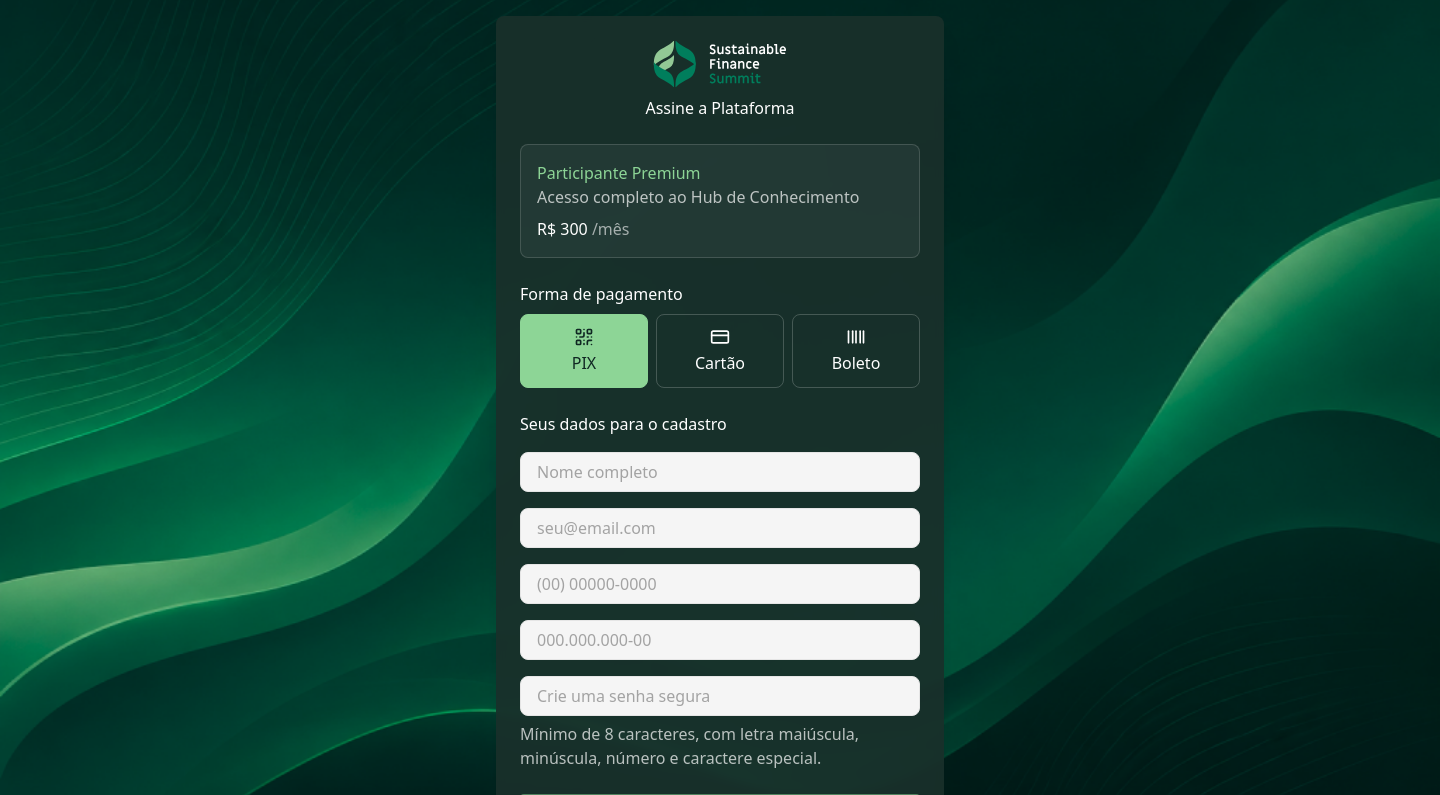
AssinaturaPage › exibe erro generico ao falhar a requisicao de iniciar
This screenshot has width=1440, height=795.
In the field with placeholder "Nome completo": (720,472) [520,452,920,492], type "João da Silva"
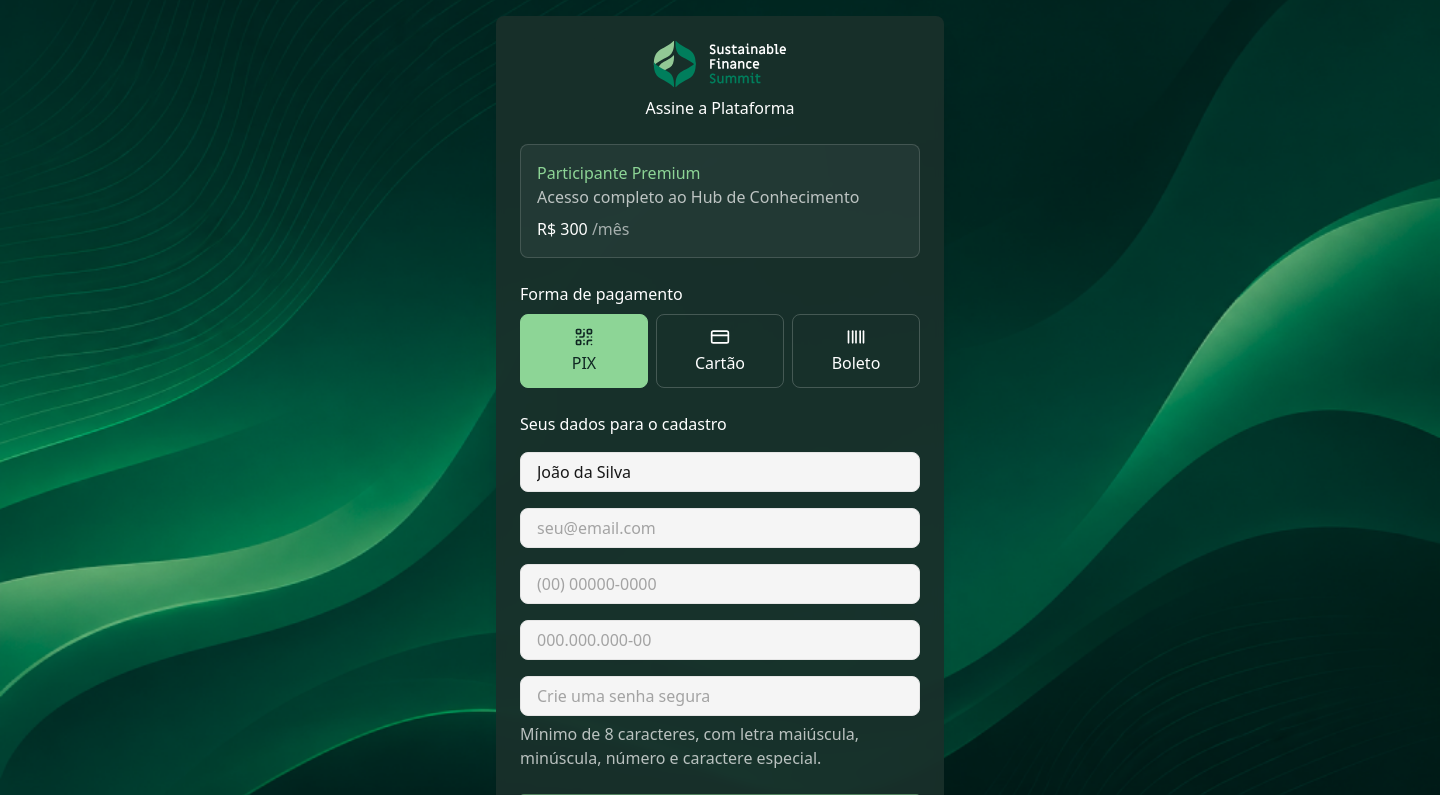
In the field with placeholder "seu@email.com": (720,528) [520,508,920,548], type "joao@example.com"
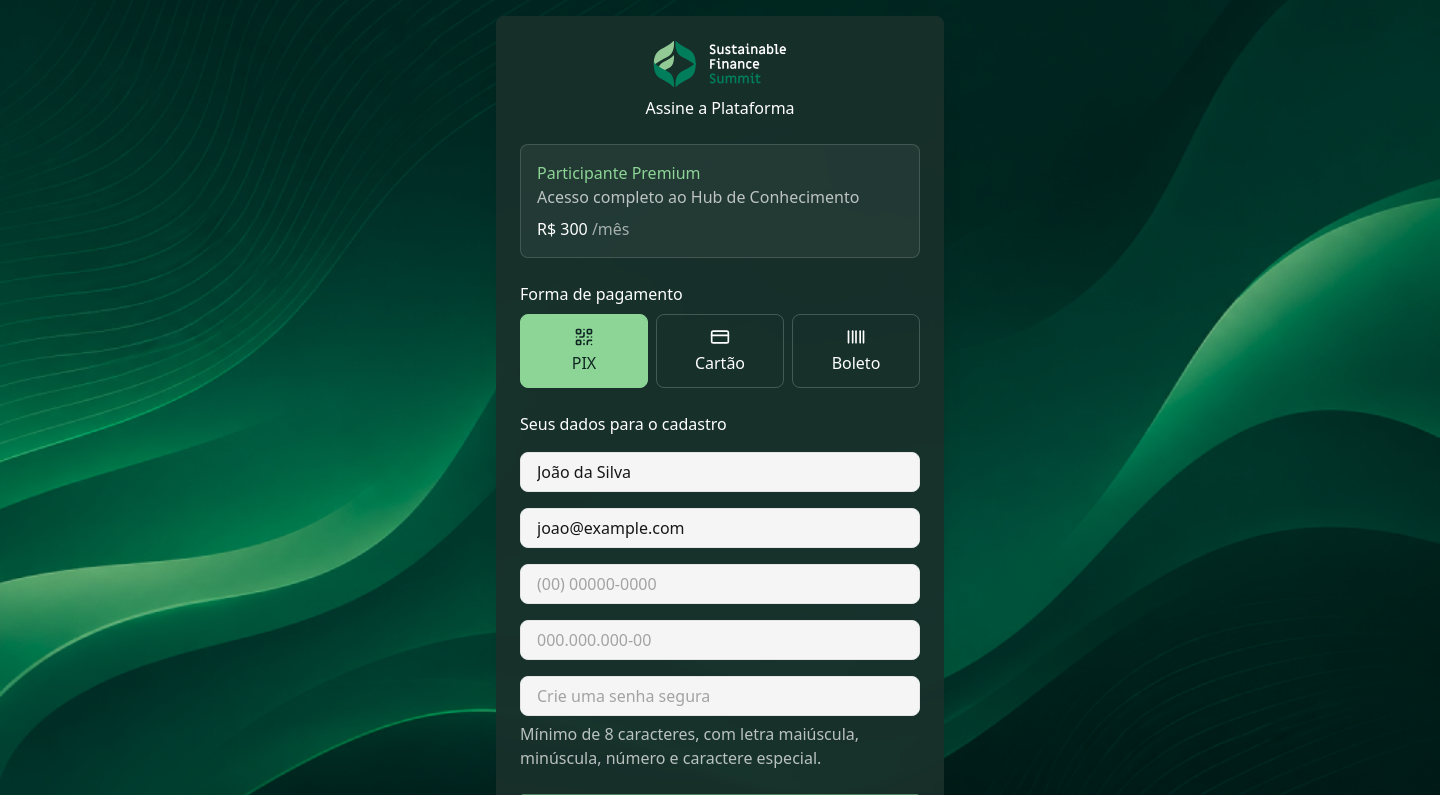
In the field with placeholder "(00) 00000-0000": (720,584) [520,564,920,604], type "11999999999"
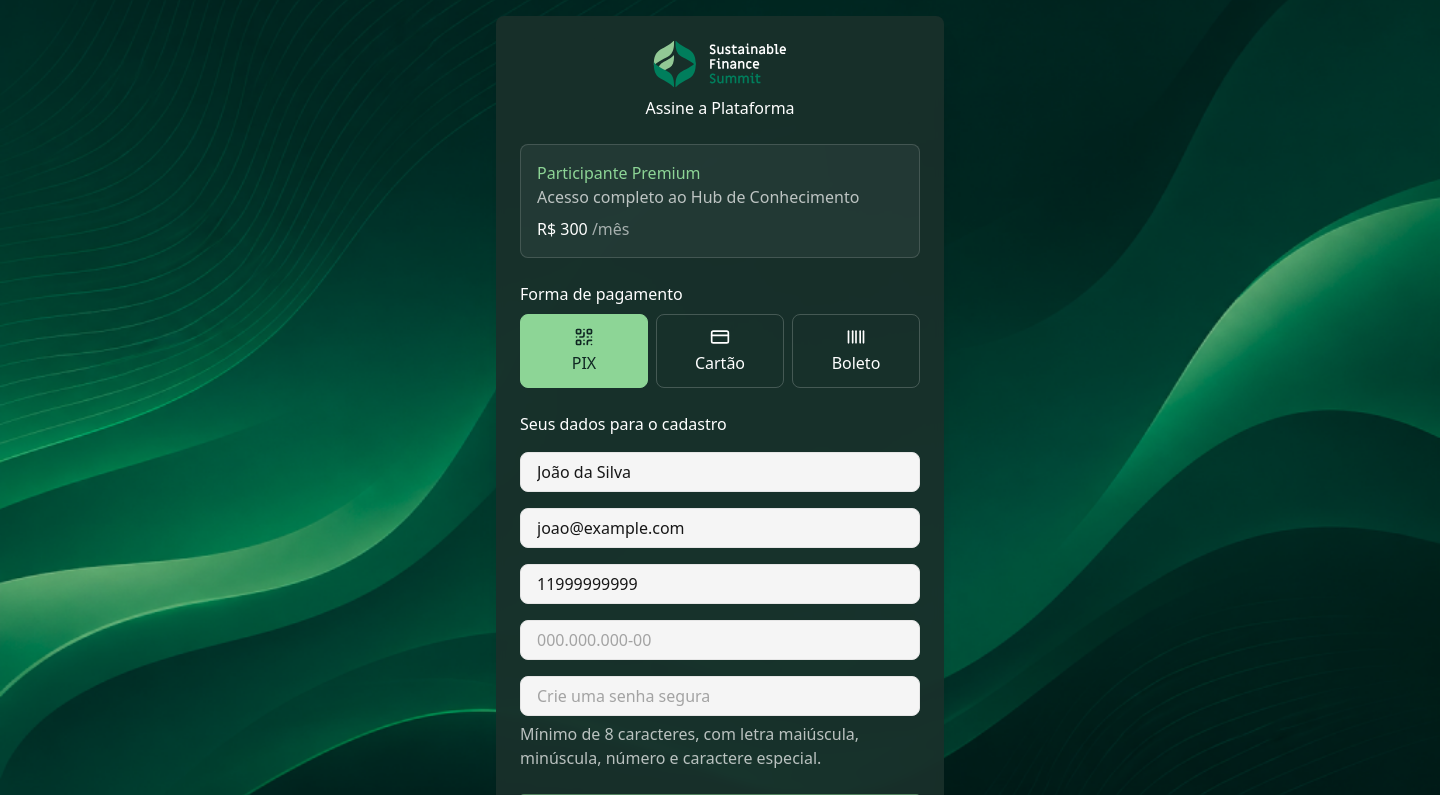
In the field with placeholder "000.000.000-00": (720,640) [520,620,920,660], type "12345678909"
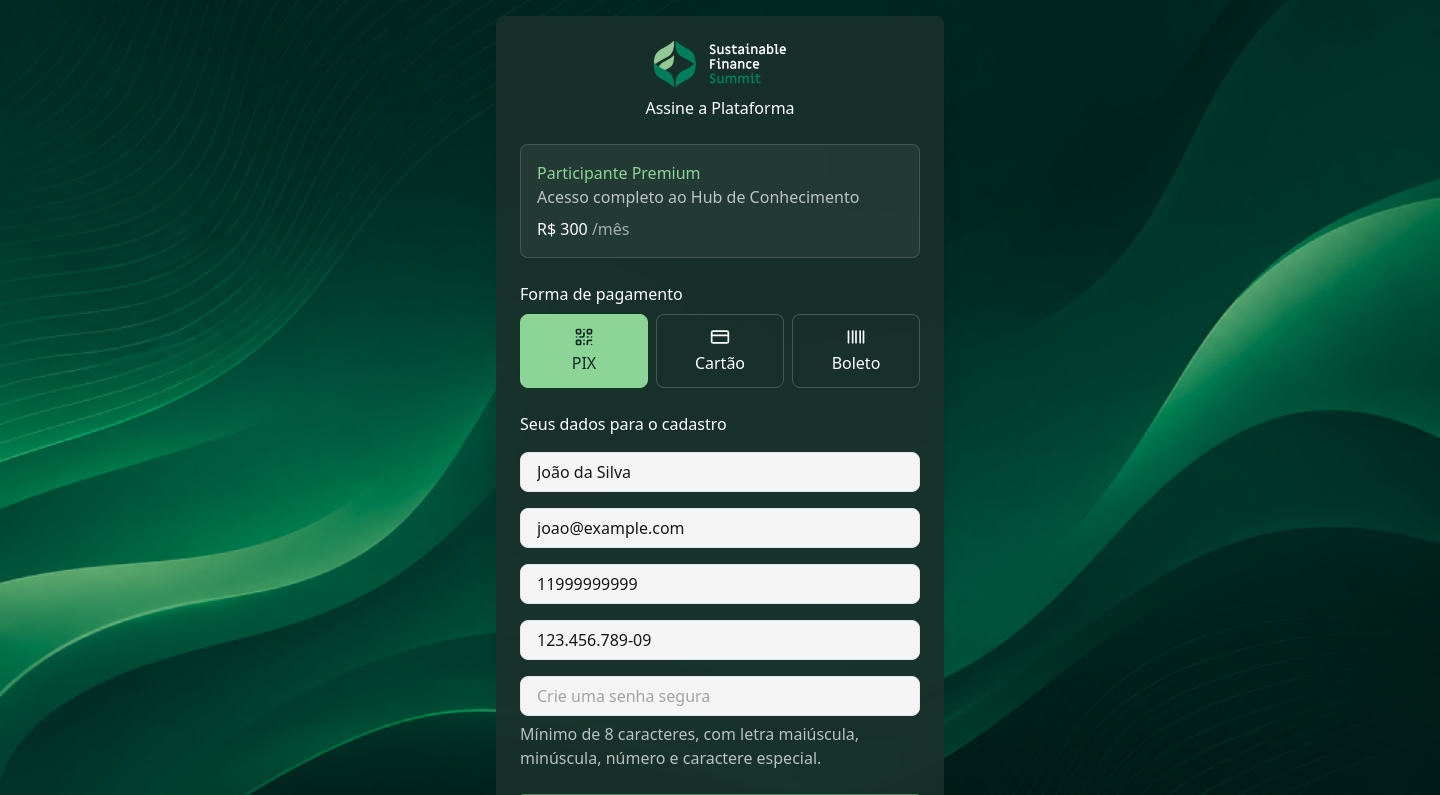
In the password field with placeholder "Crie uma senha segura": (720,696) [520,676,920,716], type "Senha@123"
(page scrolled)
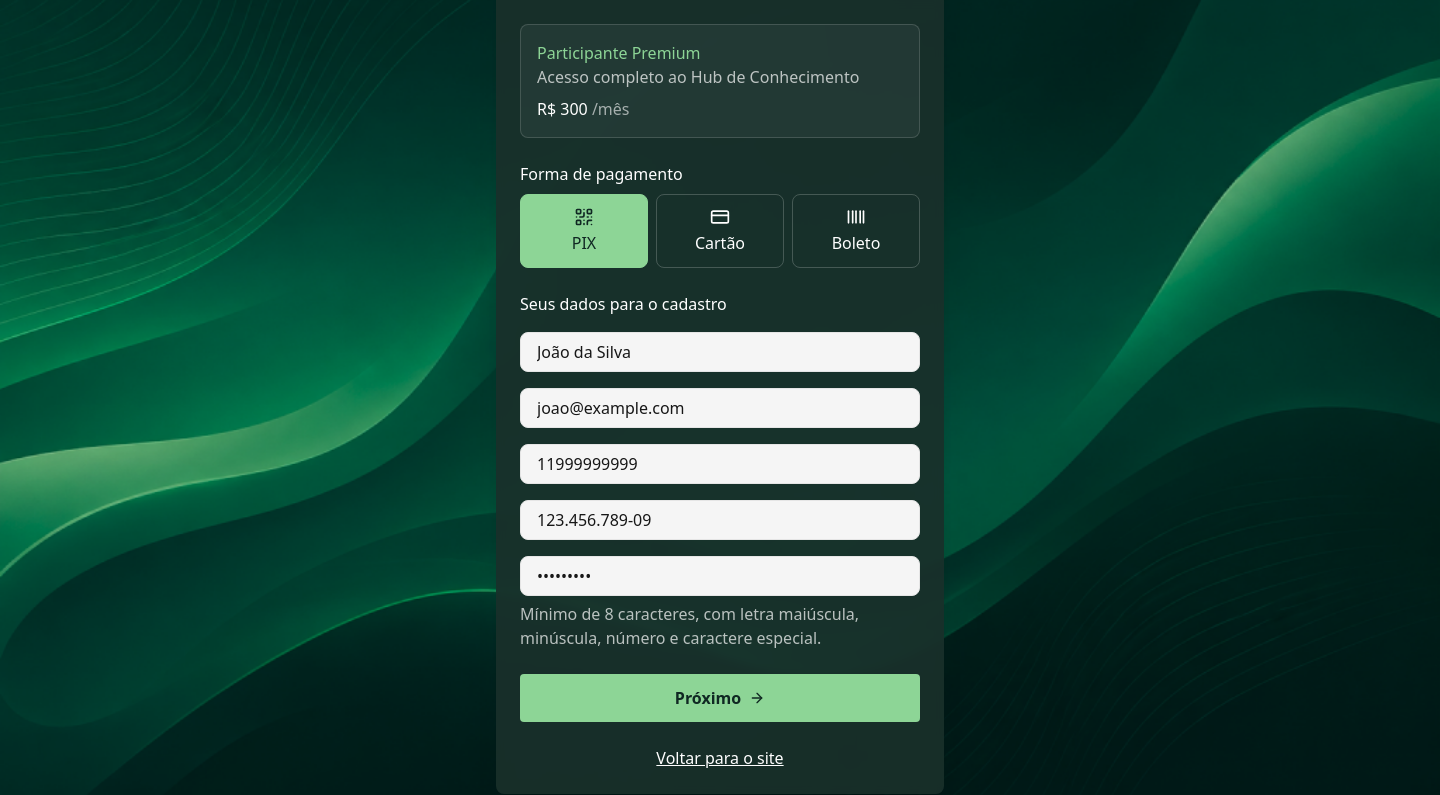
Click the button "Próximo": (720,698) [520,674,920,722]
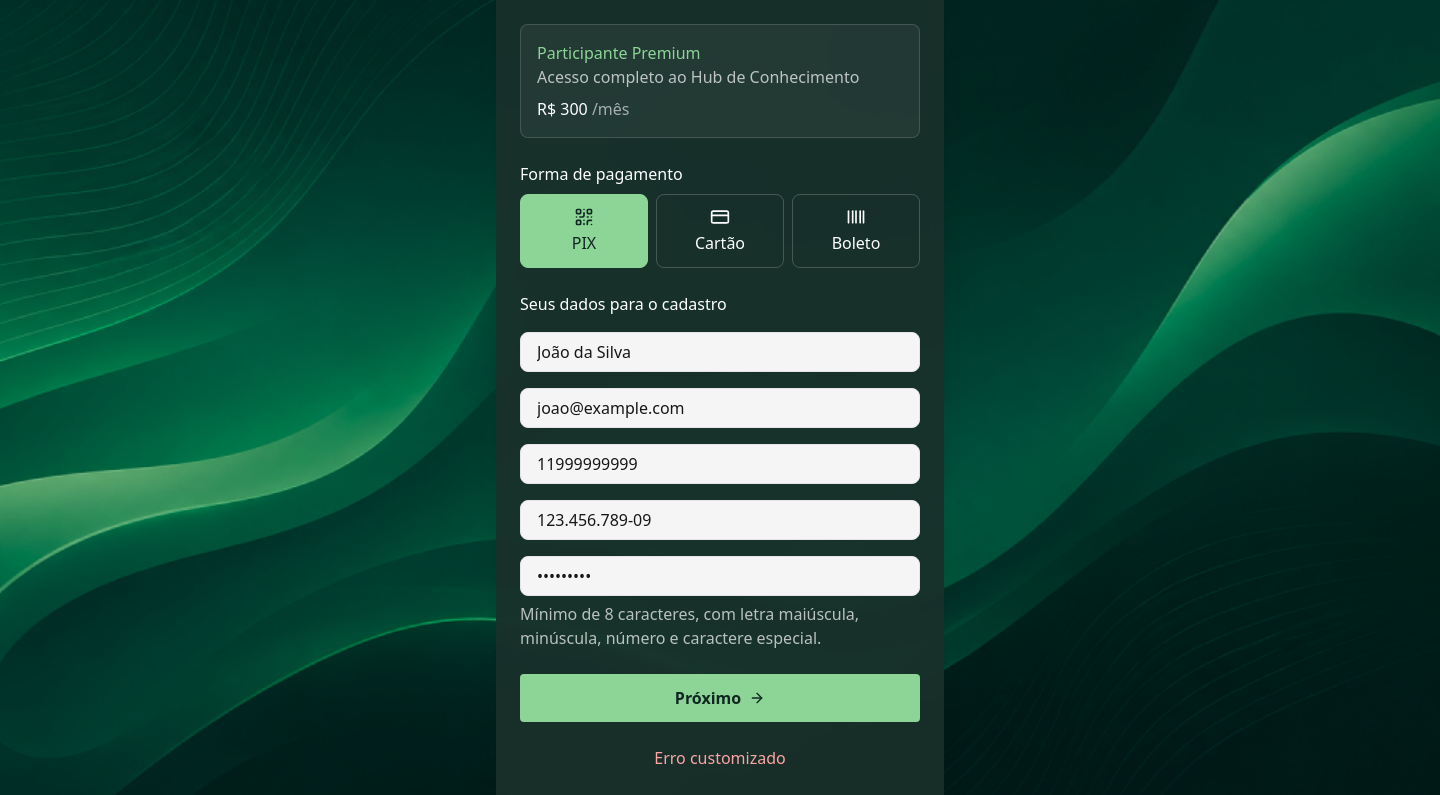
Expected: the text "Erro customizado" is shown, [654,747,786,769]
